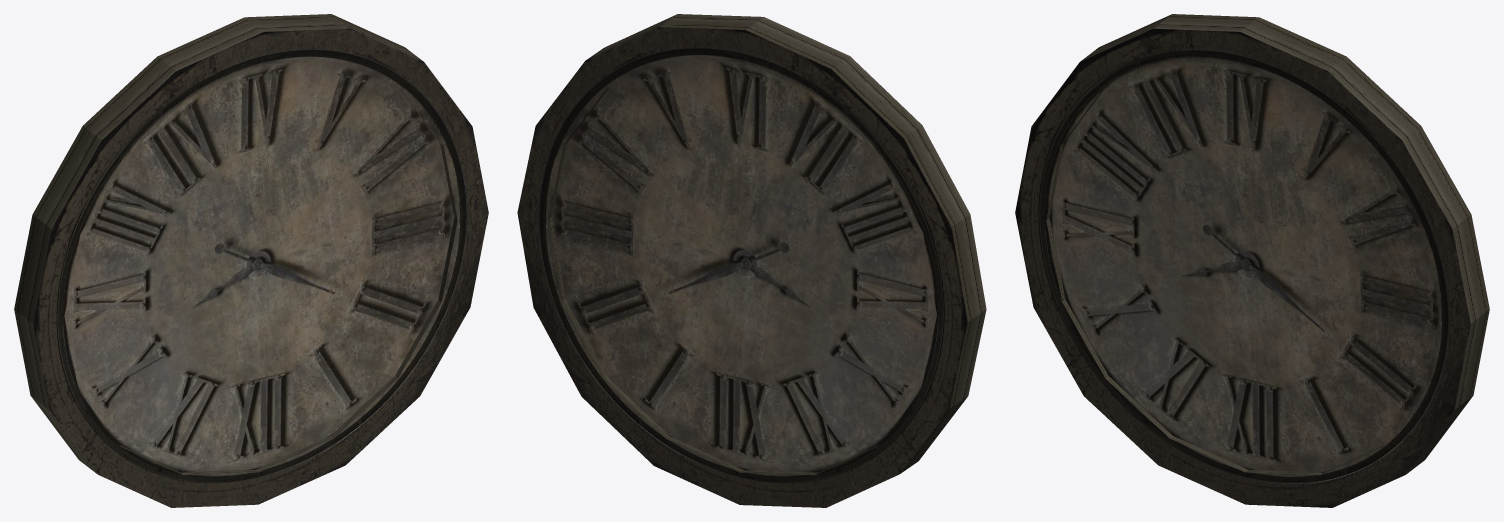
Rendered from RelojNormal.fbx.
3 renders of one model, left to right at view 1: azimuth 30°, elevation 25°; view 2: azimuth 150°, elevation 25°; view 3: azimuth 330°, elevation 25°, orthographic.
Parts seen in each view (by area): view 1: RelojNumRomano; view 2: RelojNumRomano; view 3: RelojNumRomano.
Part boxes in pixels (bbox=[...]): RelojNumRomano: bbox=[14, 14, 488, 507]; RelojNumRomano: bbox=[517, 14, 986, 507]; RelojNumRomano: bbox=[1015, 14, 1489, 507].
Bounding box in the file's own units: 200 × 200 × 18.65.
